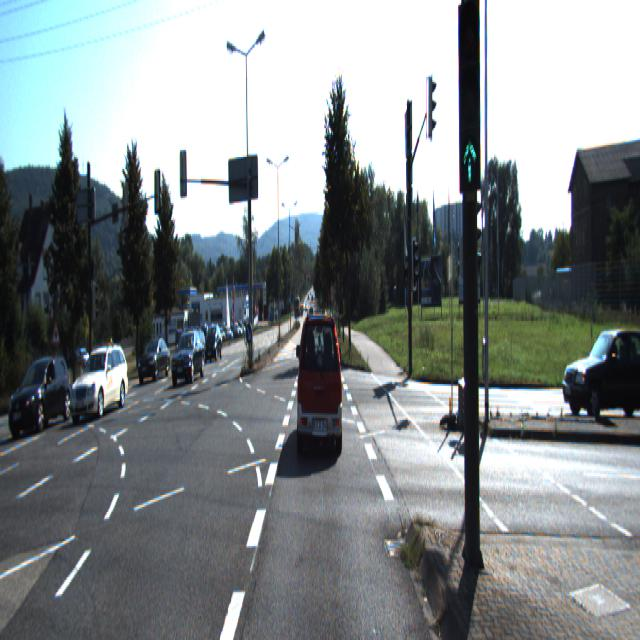Car: (560, 318, 640, 427), (296, 312, 342, 458), (9, 358, 72, 437), (69, 348, 128, 425), (171, 333, 205, 387), (137, 338, 169, 386), (202, 326, 222, 365)
